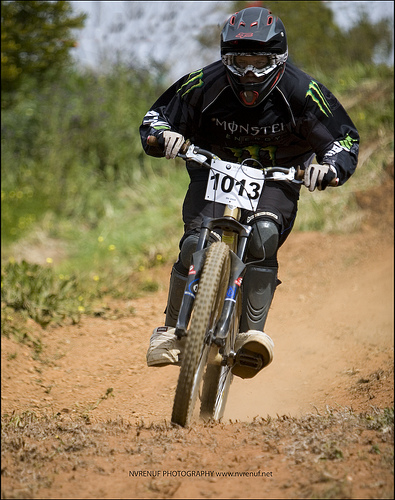helmet: (221, 14, 293, 97)
